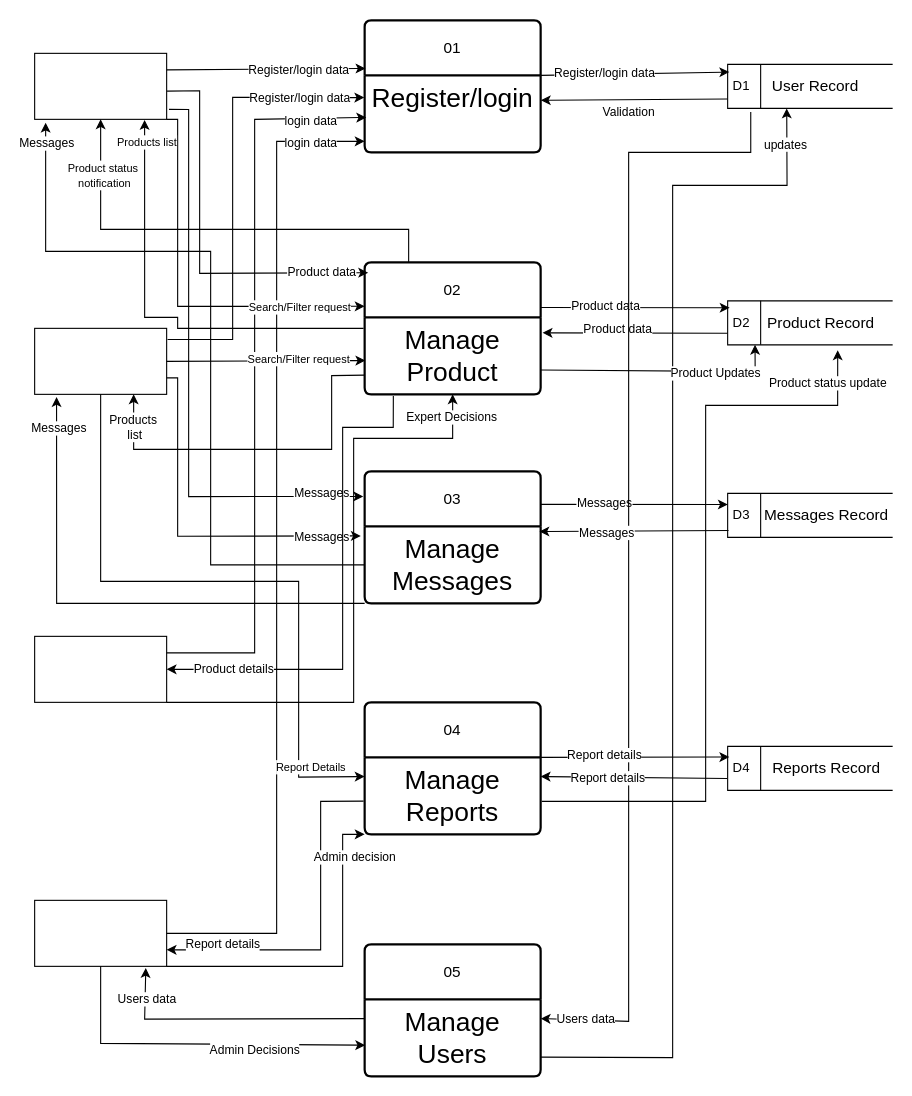
Some shapes in this 912 by 1096 pixel diagram are drawn without their labels. Each missing label, with the centre of its shape:
Admin: pixel 100 932
Buyer: pixel 100 360
Expert Team: pixel 100 668
Farmer: pixel 100 85
